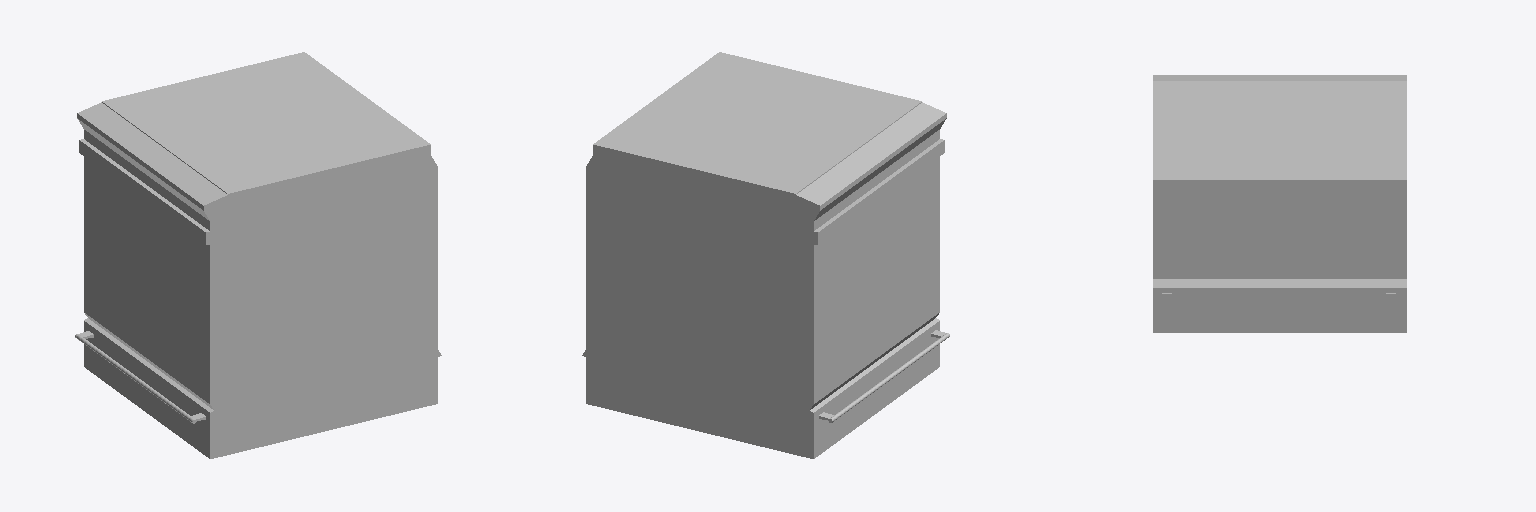
Rendered from NUTID Stove.obj.
3 renders of one model, left to right at view 1: azimuth 30°, elevation 25°; view 2: azimuth 150°, elevation 25°; view 3: azimuth 270°, elevation 25°, orthographic.
Visible parts, largest first — view 1: Vert.052; view 2: Vert.052; view 3: Vert.052.
Boxes of the visible parts, x1=… form: Vert.052: x1=75, y1=52, x2=441, y2=458; Vert.052: x1=582, y1=52, x2=949, y2=458; Vert.052: x1=1153, y1=75, x2=1406, y2=332.
Bounding box in the file's own units: 0.8499 × 0.8641 × 0.7588.